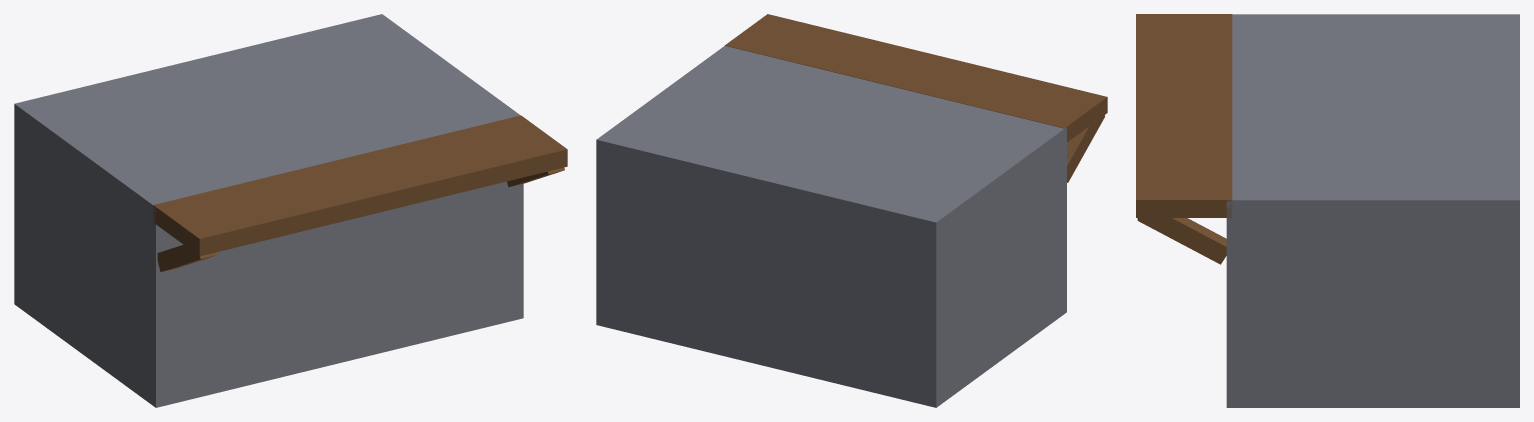
File: buidling 2.fbx
The picture shows the model from 3 angles, left to right: view 1: azimuth 30°, elevation 25°; view 2: azimuth 150°, elevation 25°; view 3: azimuth 270°, elevation 25°; orthographic projection. The views are drawn at different scales.
Parts seen in each view (by area): view 1: pCube25, pCube31, pCube33; view 2: pCube25, pCube31, pCube33; view 3: pCube25, pCube31, pCube32.
Part boxes in pixels (left/top/right/bottom): pCube25: left=14, top=14, right=523, bottom=407; pCube31: left=153, top=115, right=567, bottom=256; pCube33: left=157, top=244, right=216, bottom=271; pCube25: left=596, top=46, right=1066, bottom=407; pCube31: left=725, top=14, right=1107, bottom=142; pCube33: left=1067, top=115, right=1104, bottom=182; pCube25: left=1226, top=14, right=1519, bottom=407; pCube31: left=1136, top=14, right=1232, bottom=217; pCube32: left=1137, top=218, right=1226, bottom=264.
Size of the model in its own units: 12 by 6.26 by 10.47.
